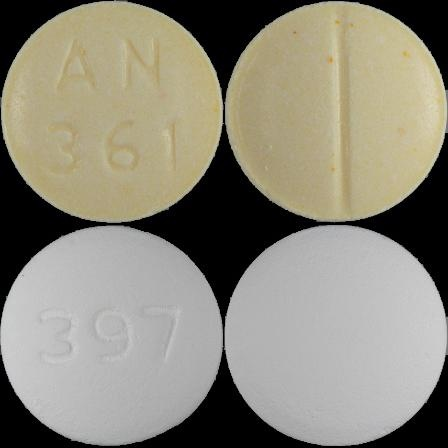64725-0361: (0, 0, 224, 224)
